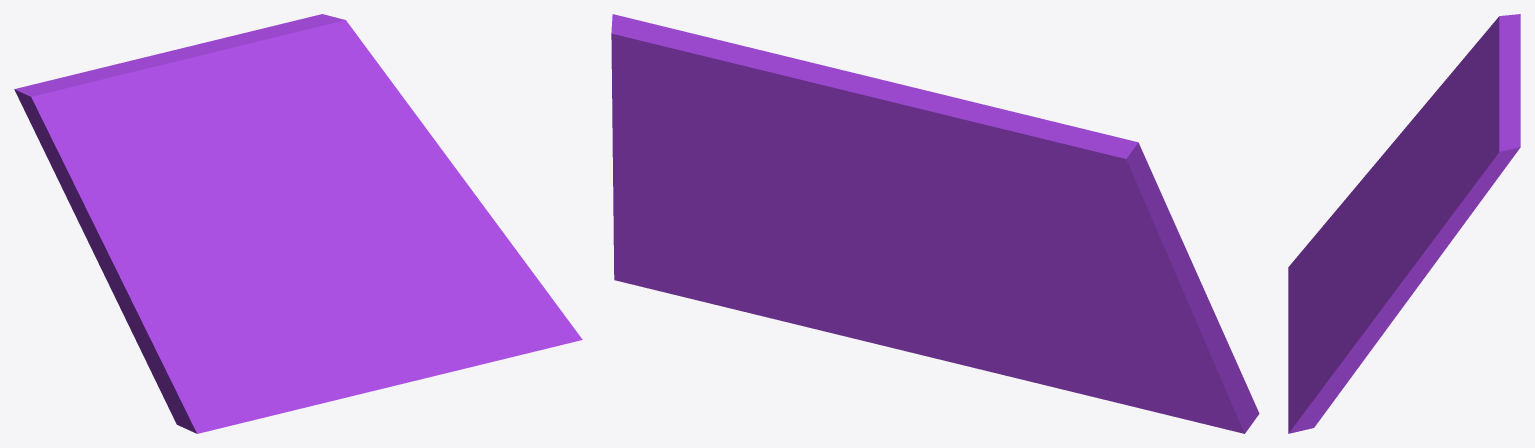
File: Window_88_chunks.fbx
3 views of the same model, side by side, from view 1: azimuth 30°, elevation 25°; view 2: azimuth 150°, elevation 25°; view 3: azimuth 270°, elevation 25° (orthographic). The views are drawn at different scales.
Visible parts, largest first — view 1: Window_88_0, Window_88_10, Window_88_11, Window_88_4, Window_88_7, Window_88_13, Window_88_6, Window_88_2, Window_88_5, Window_88_18, Window_88_20, Window_88_22 (+12 smaller); view 2: Window_88_0, Window_88_10, Window_88_3, Window_88_13, Window_88_2, Window_88_4, Window_88_11, Window_88_9, Window_88_5, Window_88_19, Window_88_15, Window_88_14 (+11 smaller); view 3: Window_88_10, Window_88_0, Window_88_4, Window_88_11, Window_88_18, Window_88_7, Window_88_2, Window_88_6, Window_88_13, Window_88_26, Window_88_5, Window_88_20 (+10 smaller).
Boxes of the visible parts, x1=… form: Window_88_0: x1=14, y1=60, x2=182, y2=278; Window_88_10: x1=234, y1=14, x2=440, y2=147; Window_88_11: x1=150, y1=35, x2=308, y2=195; Window_88_4: x1=347, y1=176, x2=524, y2=272; Window_88_7: x1=238, y1=315, x2=385, y2=423; Window_88_13: x1=120, y1=259, x2=232, y2=418; Window_88_6: x1=233, y1=210, x2=350, y2=326; Window_88_2: x1=131, y1=56, x2=272, y2=224; Window_88_5: x1=172, y1=344, x2=248, y2=433; Window_88_18: x1=475, y1=262, x2=582, y2=351; Window_88_20: x1=380, y1=318, x2=506, y2=387; Window_88_22: x1=370, y1=263, x2=498, y2=331; Window_88_0: x1=931, y1=97, x2=1200, y2=314; Window_88_10: x1=611, y1=14, x2=773, y2=152; Window_88_3: x1=780, y1=198, x2=993, y2=368; Window_88_13: x1=1040, y1=290, x2=1242, y2=429; Window_88_2: x1=889, y1=90, x2=990, y2=241; Window_88_4: x1=612, y1=156, x2=788, y2=249; Window_88_11: x1=760, y1=50, x2=923, y2=158; Window_88_9: x1=768, y1=110, x2=894, y2=216; Window_88_5: x1=1042, y1=326, x2=1259, y2=433; Window_88_19: x1=647, y1=223, x2=829, y2=300; Window_88_15: x1=1030, y1=249, x2=1204, y2=338; Window_88_14: x1=912, y1=235, x2=1054, y2=317; Window_88_10: x1=1415, y1=108, x2=1520, y2=271; Window_88_0: x1=1390, y1=14, x2=1520, y2=147; Window_88_4: x1=1339, y1=242, x2=1417, y2=364; Window_88_11: x1=1412, y1=71, x2=1520, y2=189; Window_88_18: x1=1288, y1=343, x2=1366, y2=433; Window_88_7: x1=1288, y1=254, x2=1338, y2=347; Window_88_2: x1=1396, y1=63, x2=1520, y2=204; Window_88_6: x1=1333, y1=203, x2=1402, y2=294; Window_88_13: x1=1320, y1=154, x2=1389, y2=229; Window_88_26: x1=1394, y1=220, x2=1428, y2=289; Window_88_5: x1=1288, y1=224, x2=1338, y2=284; Window_88_20: x1=1288, y1=319, x2=1326, y2=391.
Bounding box in the file's own units: 1453 × 829 × 756.
